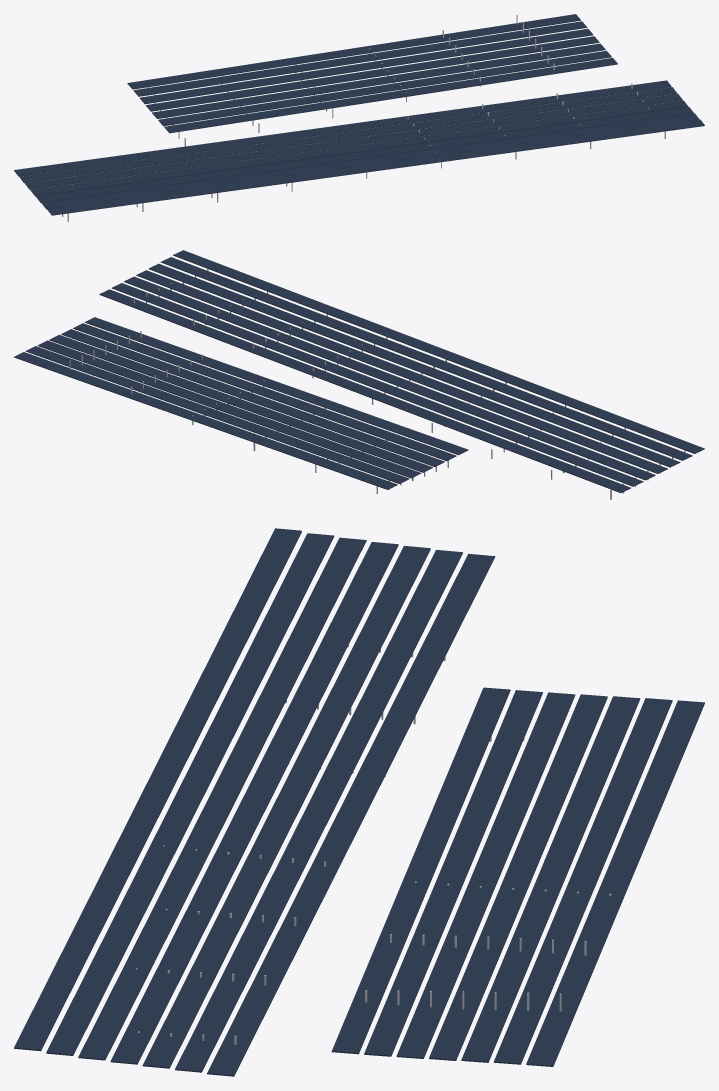
The model's file is apt_solar.glb.
The picture shows the model from 3 angles, top to bottom: view 1: azimuth 30°, elevation 25°; view 2: azimuth 150°, elevation 25°; view 3: azimuth 270°, elevation 25°; orthographic projection. The views are drawn at different scales.
Visible parts, largest first — view 1: apt_solar_lod0; view 2: apt_solar_lod0; view 3: apt_solar_lod0.
Boxes of the visible parts, left/top/right/bottom form: apt_solar_lod0: left=14, top=14, right=704, bottom=221; apt_solar_lod0: left=14, top=250, right=704, bottom=499; apt_solar_lod0: left=14, top=528, right=704, bottom=1076.
Size of what is drawn, in the model's own units: 213 by 11.61 by 116.
